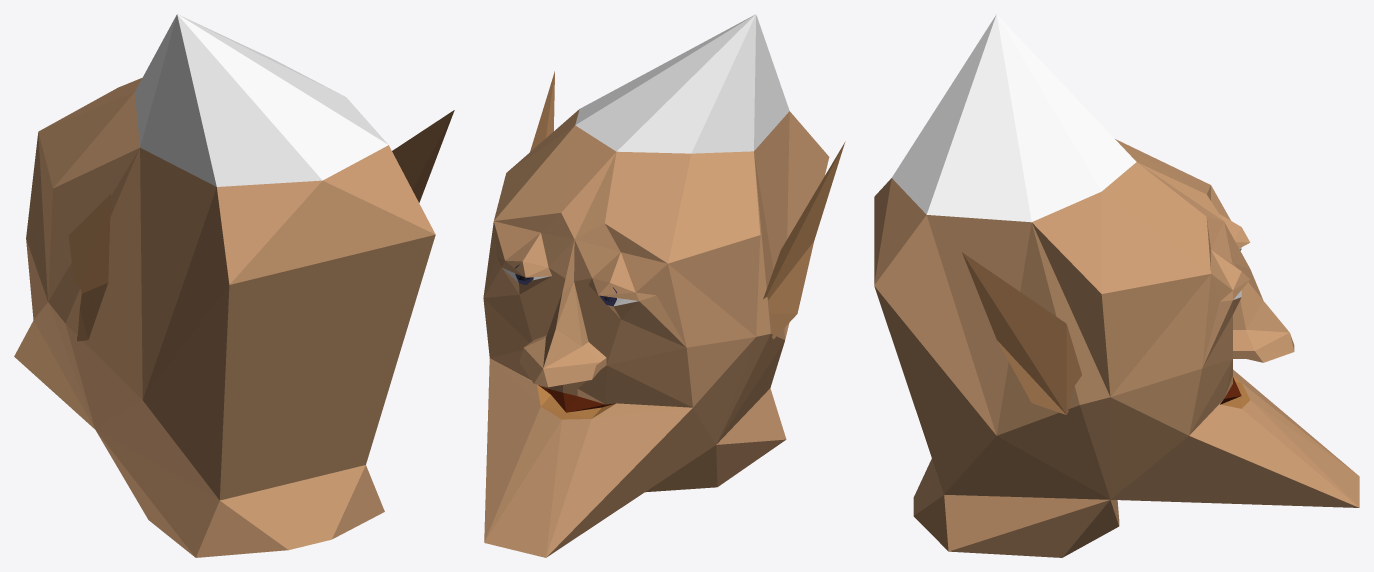
The model's file is npc_chat_hudo_0.obj.
3 renders of one model, left to right at view 1: azimuth 30°, elevation 25°; view 2: azimuth 150°, elevation 25°; view 3: azimuth 270°, elevation 25°, orthographic. The views are drawn at different scales.
Size of the model in its own units: 0.625 by 0.9297 by 0.8672.
